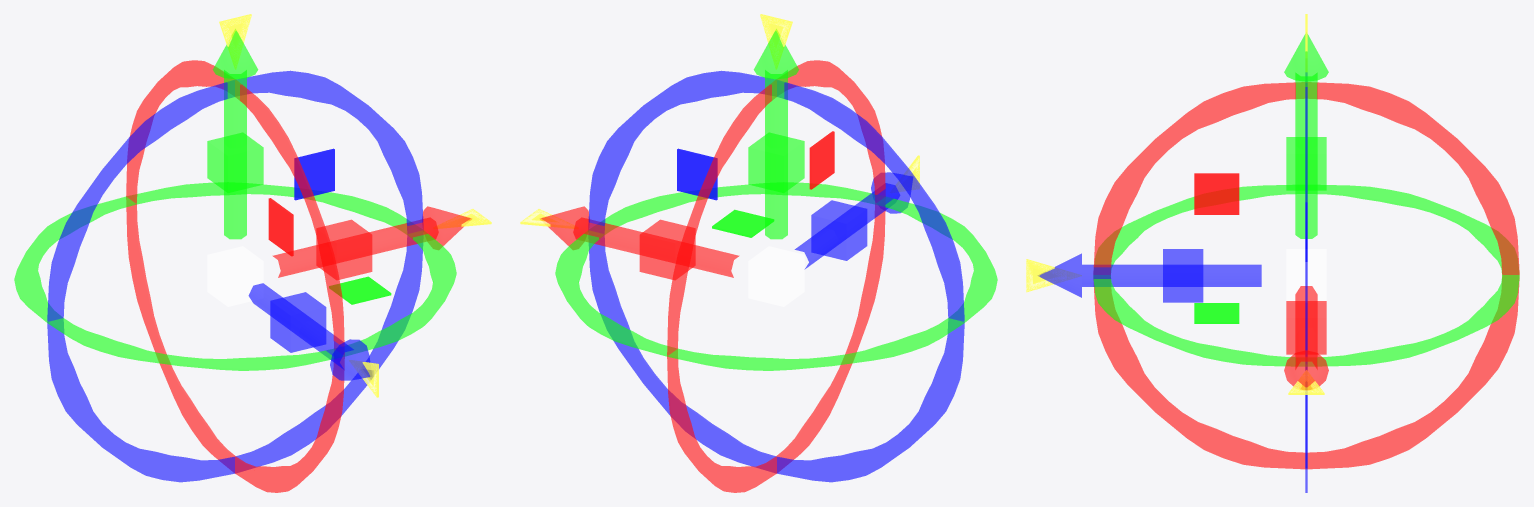
The model's file is TransformGizmo2.glb.
3 views of the same model, side by side, from view 1: azimuth 30°, elevation 25°; view 2: azimuth 150°, elevation 25°; view 3: azimuth 270°, elevation 25° (orthographic).
Parts seen in each view (by area): view 1: RotateZAxisDisk, RotateXAxisDisk, RotateYAxisDisk, TranslateYAxis, TranslateXAxis, TranslateZAxis, ScaleUniformHandle, ScaleYAxis, ScaleZAxis, ScaleXAxis, TranslateXYPlane, ScaleXYPlane (+7 smaller); view 2: RotateZAxisDisk, RotateXAxisDisk, RotateYAxisDisk, TranslateYAxis, TranslateXAxis, TranslateZAxis, ScaleUniformHandle, ScaleZAxis, ScaleYAxis, ScaleXAxis, TranslateXYPlane, ScaleXYPlane (+5 smaller); view 3: RotateXAxisDisk, RotateYAxisDisk, TranslateZAxis, TranslateYAxis, TranslateXAxis, ScaleZAxis, ScaleYAxis, ScaleUniformHandle, ScaleXAxis, TranslateYZPlane, ScaleYZPlane, RotateZAxisDisk (+4 smaller).
Boxes of the visible parts, x1,y1,x2,y2 form: RotateZAxisDisk: [47, 70, 423, 482]; RotateXAxisDisk: [126, 60, 344, 492]; RotateYAxisDisk: [14, 182, 456, 370]; TranslateYAxis: [213, 29, 257, 239]; TranslateXAxis: [273, 206, 471, 277]; TranslateZAxis: [248, 283, 371, 380]; ScaleUniformHandle: [207, 246, 263, 306]; ScaleYAxis: [207, 133, 263, 192]; ScaleZAxis: [270, 292, 326, 352]; ScaleXAxis: [316, 219, 372, 279]; TranslateXYPlane: [294, 148, 334, 200]; ScaleXYPlane: [294, 149, 334, 199]; RotateZAxisDisk: [588, 71, 964, 482]; RotateXAxisDisk: [667, 60, 885, 492]; RotateYAxisDisk: [555, 182, 997, 370]; TranslateYAxis: [754, 29, 798, 239]; TranslateXAxis: [540, 206, 738, 277]; TranslateZAxis: [795, 172, 912, 269]; ScaleUniformHandle: [748, 246, 804, 306]; ScaleZAxis: [811, 200, 867, 260]; ScaleYAxis: [748, 133, 804, 192]; ScaleXAxis: [639, 219, 695, 279]; TranslateXYPlane: [677, 148, 717, 200]; ScaleXYPlane: [677, 149, 717, 199]; RotateXAxisDisk: [1093, 82, 1519, 469]; RotateYAxisDisk: [1093, 185, 1519, 366]; TranslateZAxis: [1038, 253, 1261, 297]; TranslateYAxis: [1284, 34, 1328, 238]; TranslateXAxis: [1284, 286, 1328, 389]; ScaleZAxis: [1163, 249, 1203, 302]; ScaleYAxis: [1286, 137, 1326, 190]; ScaleUniformHandle: [1286, 249, 1326, 302]; ScaleXAxis: [1286, 301, 1326, 354]; TranslateYZPlane: [1194, 173, 1239, 214]; ScaleYZPlane: [1194, 173, 1238, 214]; RotateZAxisDisk: [1305, 72, 1307, 492].
Size of the model in its own units: 2.2 by 2.2 by 2.2.
